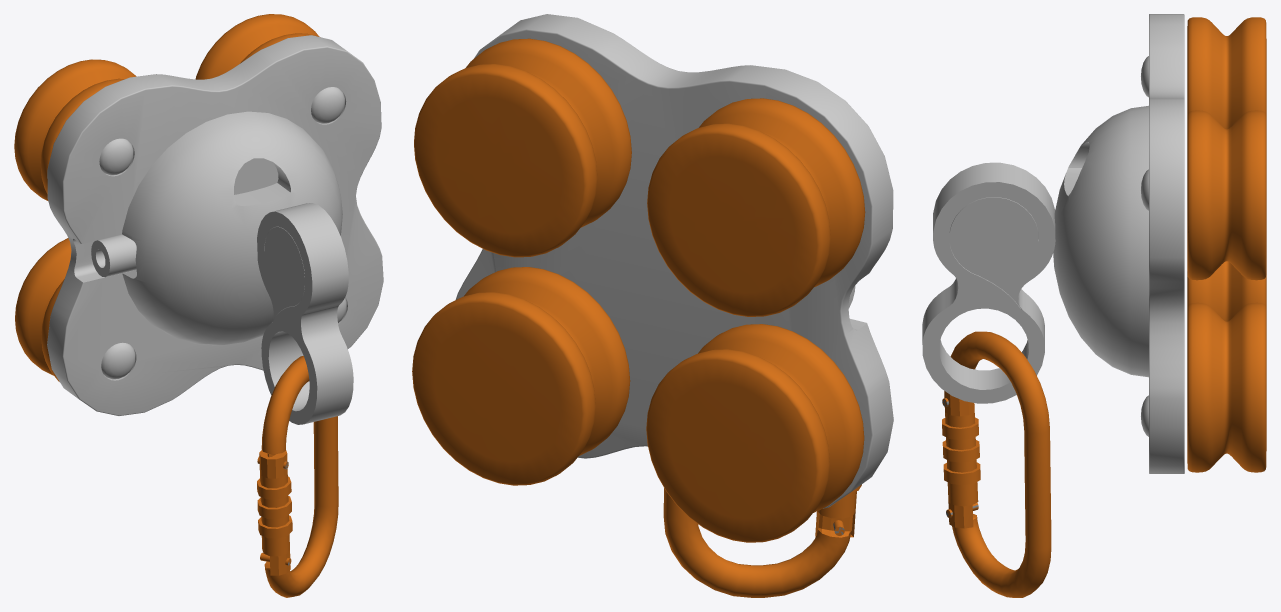
Rendered from SM_Trolly.FBX.
3 renders of one model, left to right at view 1: azimuth 30°, elevation 25°; view 2: azimuth 150°, elevation 25°; view 3: azimuth 270°, elevation 25°, orthographic. The views are drawn at different scales.
Visible parts, largest first — view 1: SM_Trolly; view 2: SM_Trolly; view 3: SM_Trolly.
Boxes of the visible parts, x1,y1,x2,y2 form: SM_Trolly: (14,14,383,597); SM_Trolly: (412,14,893,597); SM_Trolly: (922,14,1266,597).
Bounding box in the file's own units: 37.96 × 53.57 × 32.04.
